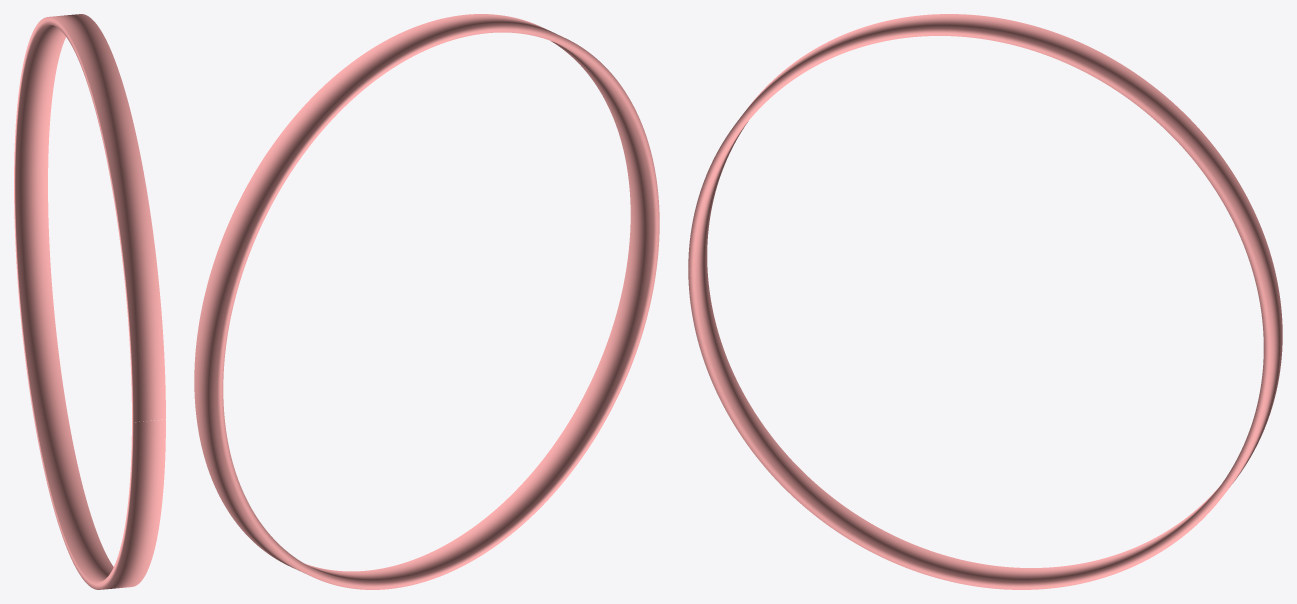
File: coil_coil_10_tube.gltf
3 renders of one model, left to right at view 1: azimuth 30°, elevation 25°; view 2: azimuth 150°, elevation 25°; view 3: azimuth 270°, elevation 25°, orthographic. The views are drawn at different scales.
Parts seen in each view (by area): view 1: Renderer Node; view 2: Renderer Node; view 3: Renderer Node.
Boxes of the visible parts, x1=… form: Renderer Node: x1=14, y1=14, x2=165, y2=589; Renderer Node: x1=194, y1=14, x2=659, y2=589; Renderer Node: x1=688, y1=14, x2=1282, y2=589.
Bounding box in the file's own units: 0.2213 × 0.6084 × 0.5894.
